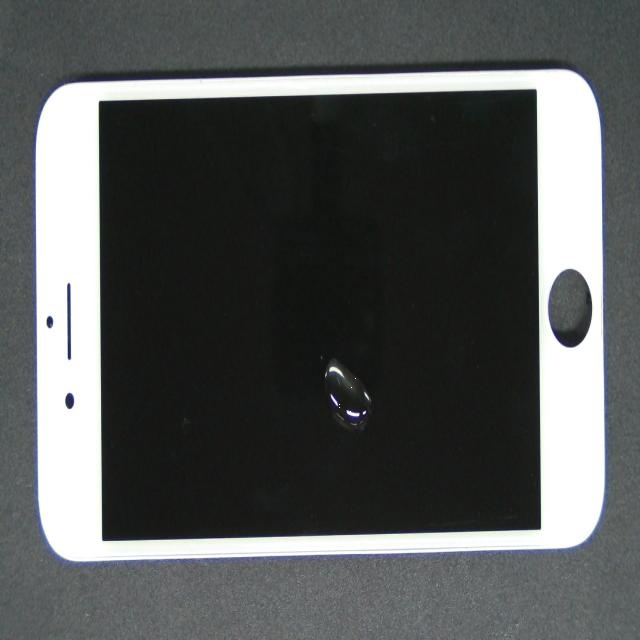oil: (166, 158, 491, 560)
